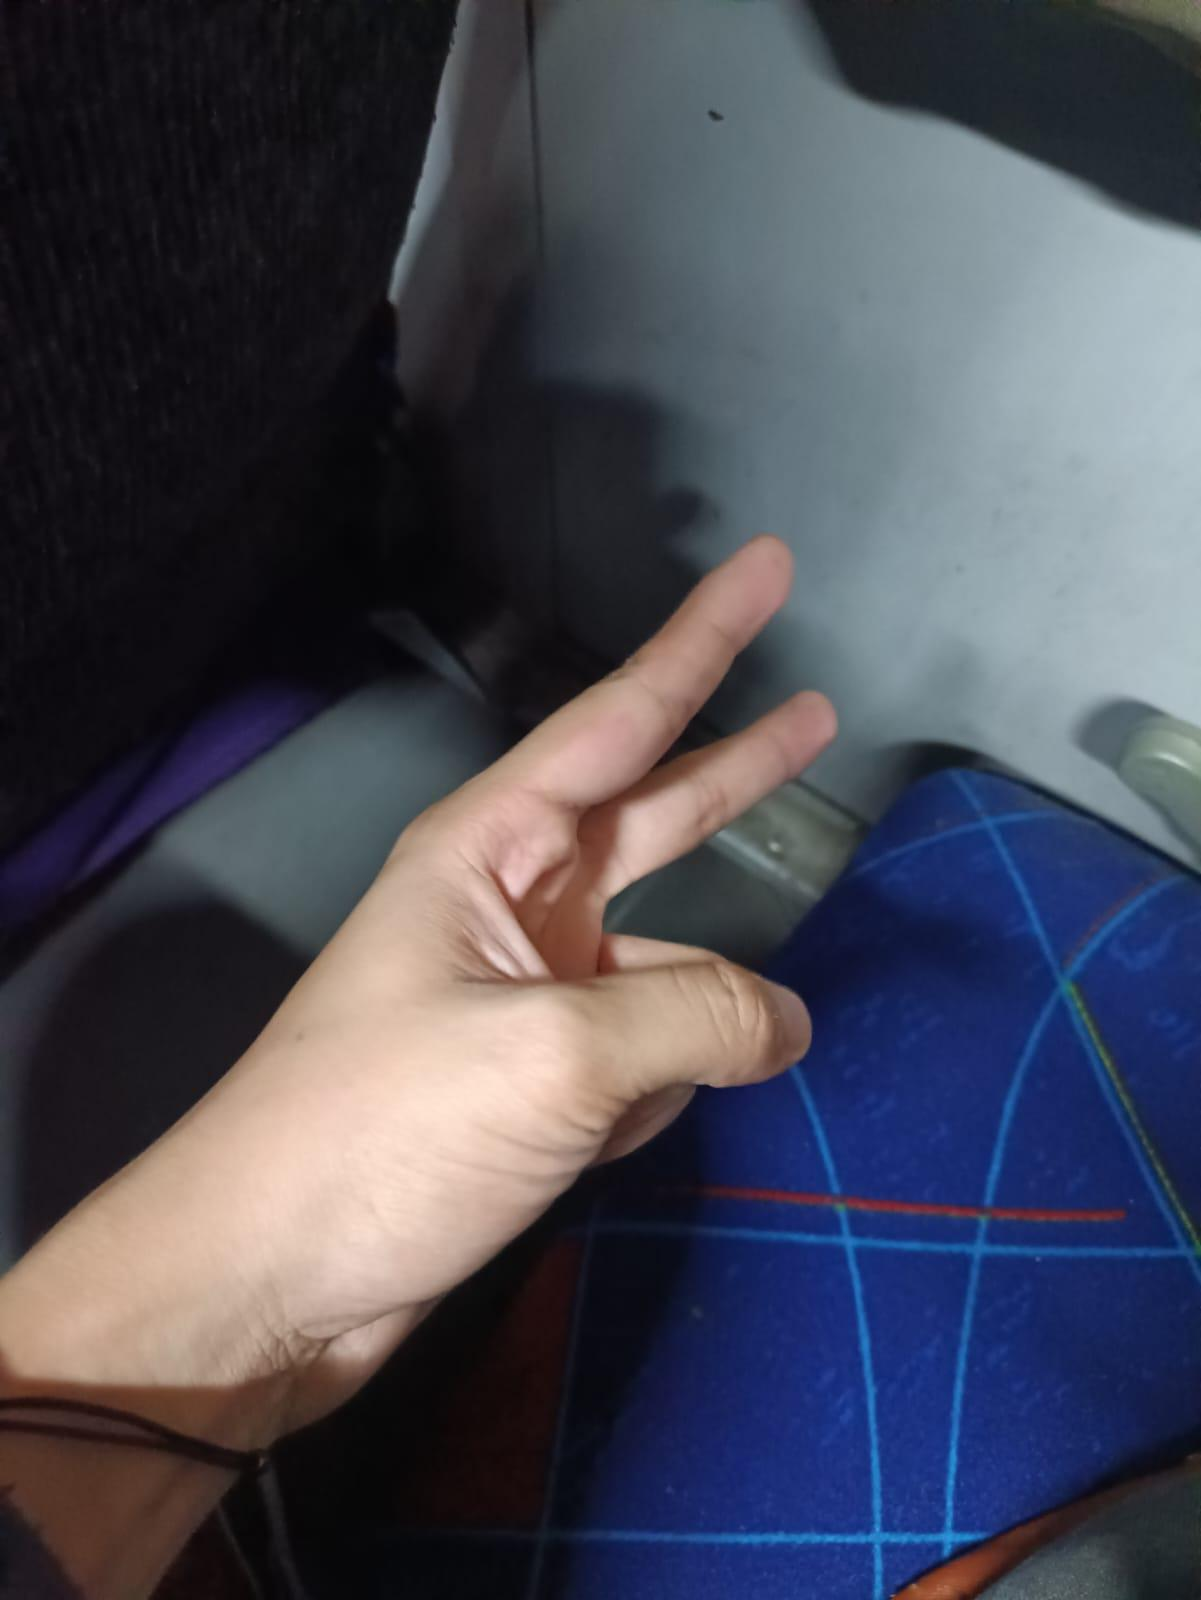Scissor: (0, 497, 916, 1600)
